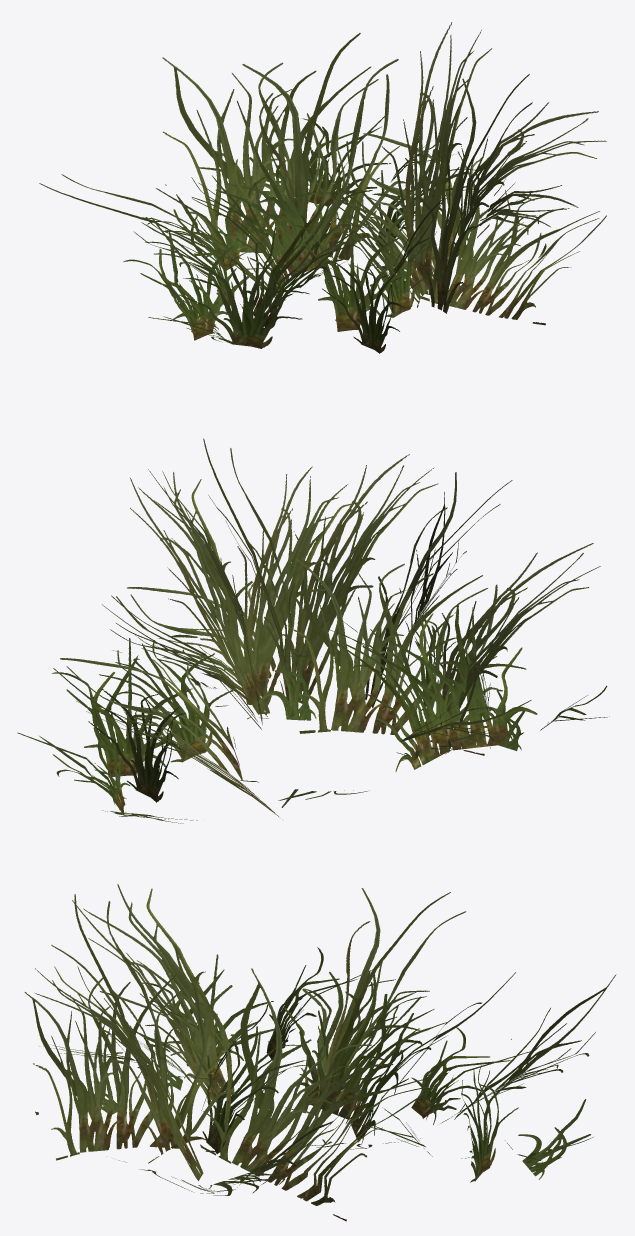
Rendered from SM_Fol_Grass_Set6.glb.
3 renders of one model, top to bottom at view 1: azimuth 30°, elevation 25°; view 2: azimuth 150°, elevation 25°; view 3: azimuth 270°, elevation 25°, orthographic. The views are drawn at different scales.
Visible parts, largest first — view 1: SM_Fol_Grass_Set6; view 2: SM_Fol_Grass_Set6; view 3: SM_Fol_Grass_Set6.
Part boxes in pixels (x1,y1,x2,y2): SM_Fol_Grass_Set6: [39, 22, 606, 353]; SM_Fol_Grass_Set6: [17, 438, 609, 823]; SM_Fol_Grass_Set6: [24, 884, 616, 1221].
Size of the model in its own units: 1.31 by 0.6506 by 1.35.
1 material, 1 textured.
